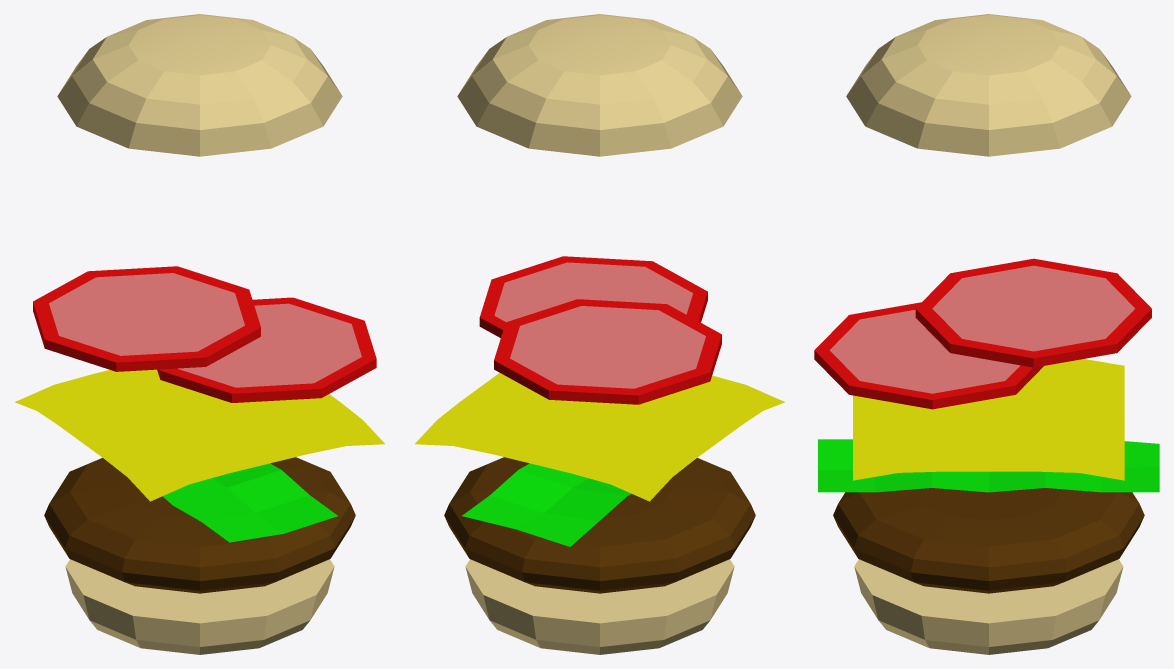
File: Burger.fbx
The picture shows the model from 3 angles, left to right: view 1: azimuth 30°, elevation 25°; view 2: azimuth 150°, elevation 25°; view 3: azimuth 270°, elevation 25°; orthographic projection.
Visible parts, largest first — view 1: Top, Cheese, Patty, pCylinder3, Bottom, pasted__pCylinder3, Lettuce; view 2: Top, Cheese, Patty, pCylinder3, Bottom, pasted__pCylinder3, Lettuce; view 3: Top, Patty, Cheese, pCylinder3, Bottom, pasted__pCylinder3, Lettuce.
Boxes of the visible parts, x1=… form: Top: x1=57, y1=14, x2=342, y2=156; Cheese: x1=15, y1=369, x2=384, y2=501; Patty: x1=44, y1=457, x2=355, y2=593; pCylinder3: x1=33, y1=266, x2=260, y2=371; Bottom: x1=65, y1=559, x2=334, y2=654; pasted__pCylinder3: x1=157, y1=297, x2=376, y2=402; Lettuce: x1=162, y1=463, x2=337, y2=542; Top: x1=457, y1=14, x2=742, y2=156; Cheese: x1=415, y1=373, x2=784, y2=501; Patty: x1=444, y1=457, x2=755, y2=593; pCylinder3: x1=494, y1=299, x2=721, y2=404; Bottom: x1=465, y1=559, x2=734, y2=654; pasted__pCylinder3: x1=479, y1=256, x2=707, y2=337; Lettuce: x1=462, y1=463, x2=631, y2=546; Top: x1=846, y1=14, x2=1131, y2=156; Patty: x1=833, y1=488, x2=1144, y2=593; Cheese: x1=853, y1=359, x2=1124, y2=480; pCylinder3: x1=915, y1=258, x2=1151, y2=367; Bottom: x1=854, y1=559, x2=1123, y2=654; pasted__pCylinder3: x1=814, y1=302, x2=1043, y2=409; Lettuce: x1=818, y1=439, x2=1159, y2=492.
Bounding box in the file's own units: 2.33 × 4.63 × 2.56.
